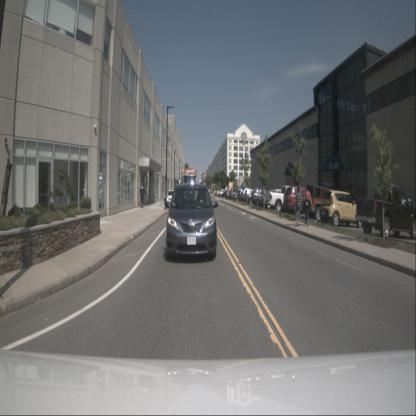human-pedestrian-adult: (302, 184, 312, 227), (294, 185, 302, 227), (140, 182, 145, 208)
vehicle-car: (166, 183, 217, 260), (320, 187, 364, 227), (303, 183, 340, 221), (283, 185, 317, 215), (252, 186, 274, 206), (244, 189, 262, 204), (241, 187, 259, 202), (236, 188, 252, 202), (166, 189, 177, 206), (230, 188, 243, 200), (225, 190, 237, 199), (220, 190, 232, 198)
vehicle-truck: (355, 183, 416, 240), (266, 183, 305, 212), (181, 168, 198, 204)
